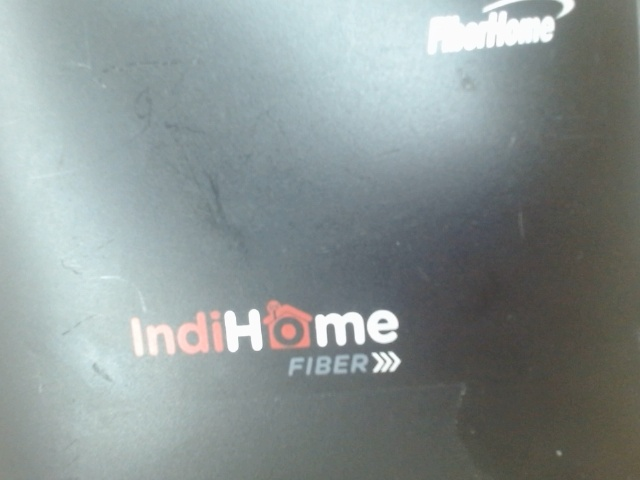AF_IndiHome: (123, 296, 413, 389)
